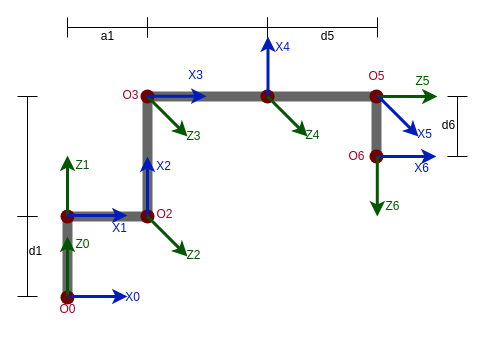
This 485x337 diagram has some shape labels left out. Each missing label, with the box of its shape:
a2: (16, 96, 38, 216)
a3: (146, 16, 268, 38)
O1: (44, 194, 90, 238)
O4: (244, 74, 290, 118)
